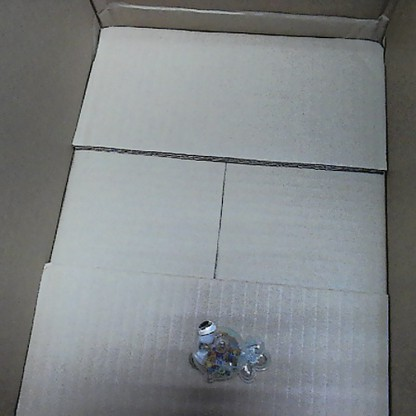whitefish: (188, 316, 269, 383)
